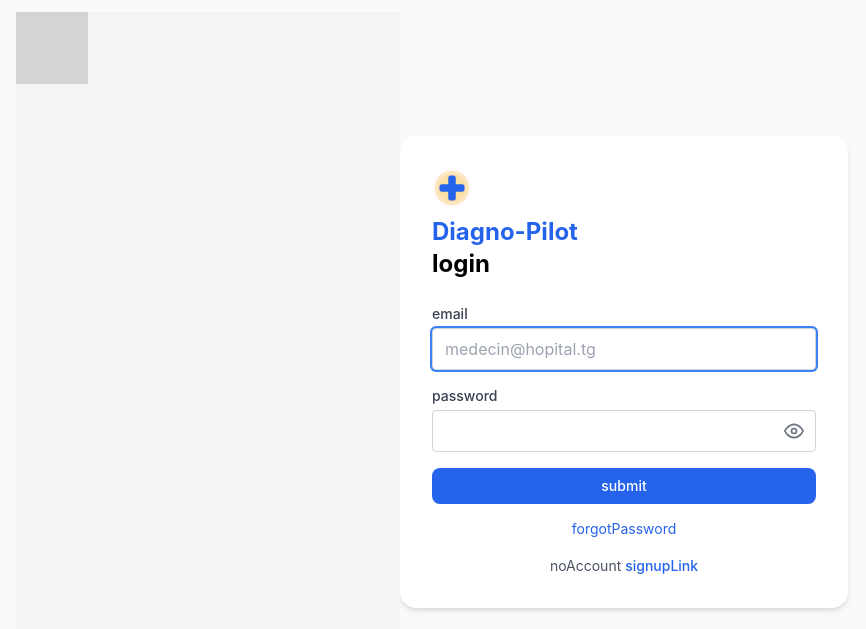
Test: LoginPage — loading label (Req 1.5) › shows localized signing-in text while submitting
The image size is (866, 629).
Type "doc@test.com" into the field with id "email" at (624, 349), box [432,328,816,370]
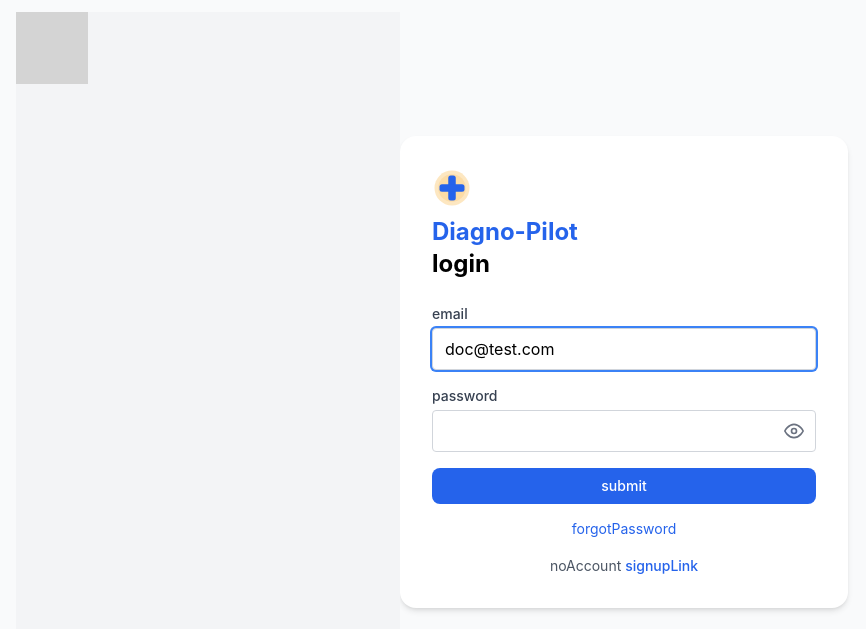
Type "password123" into the password field labelled "password" at (624, 431), box [432,410,816,452]
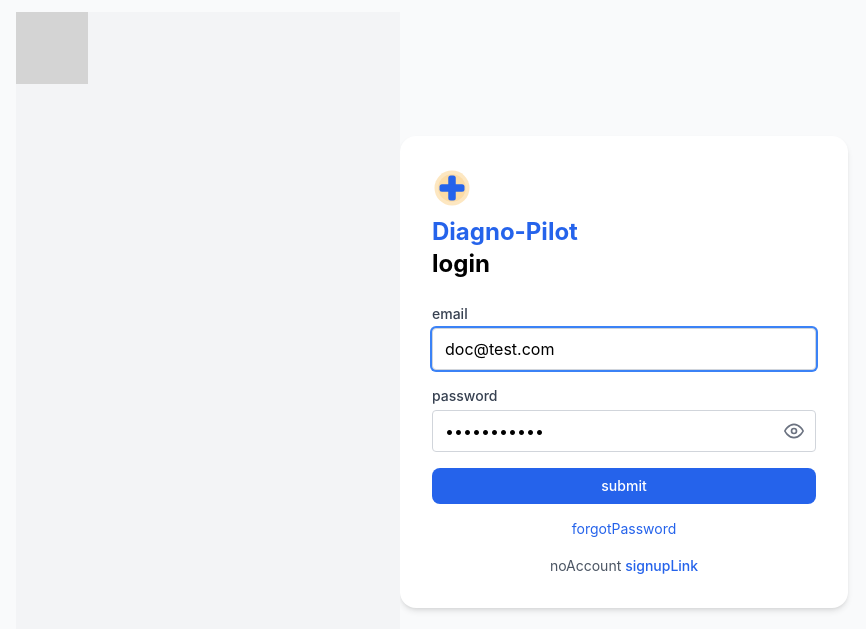
Submit the form "email password submit", box [432,304,816,504]
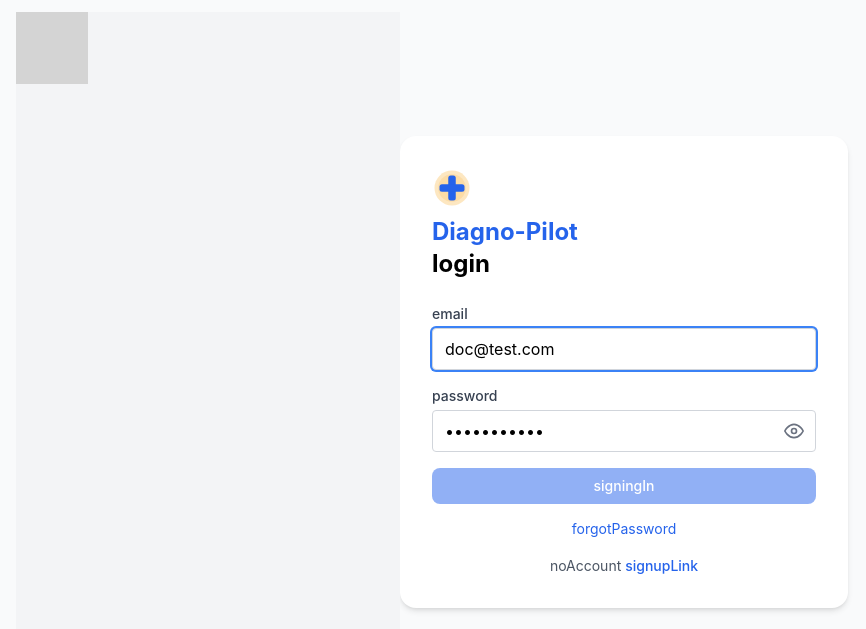
Check: the button "signingIn" is shown, box [432,468,816,504]
